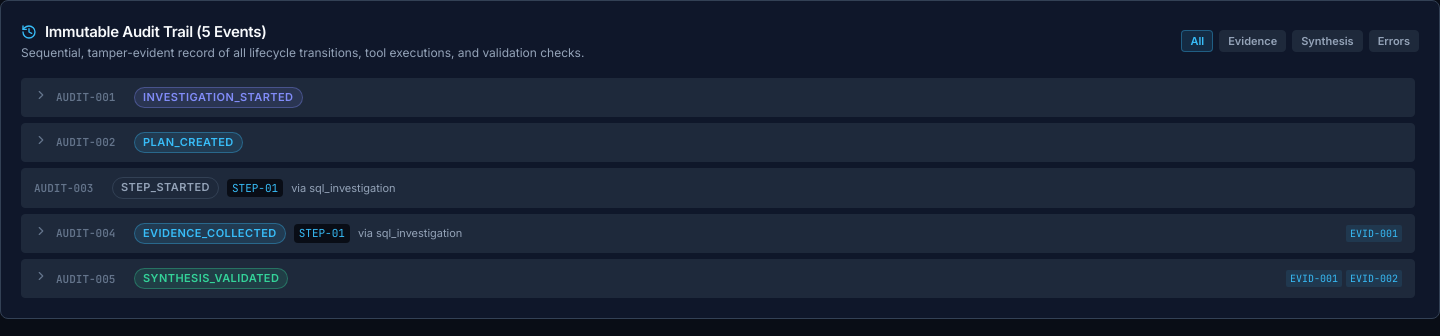
Scenario: AuditTrailStream component › filters events when filter pills are clicked
The image size is (1440, 336).
Click the button "evidence". click: (1253, 41)
box: [1219,30,1286,52]
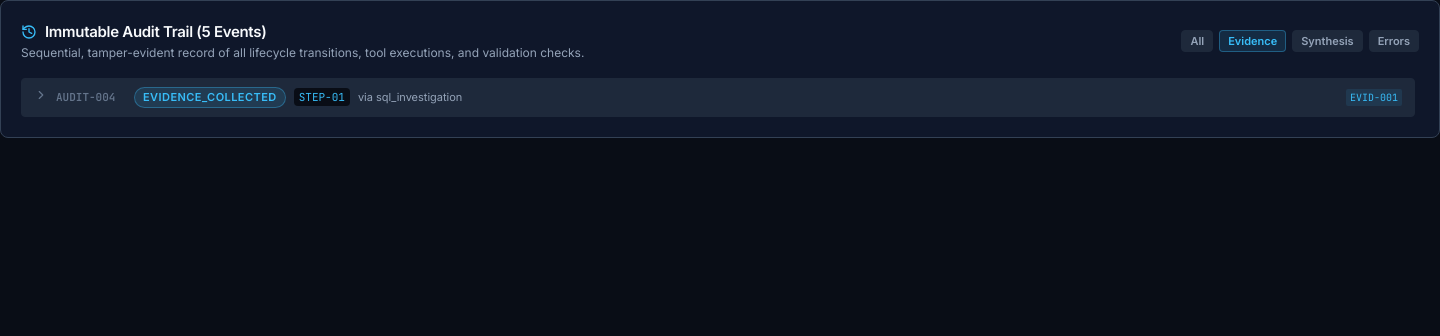
Expected: the text "evidence_collected" is shown, [134,86,286,108]
Result: the text "plan_created" is gone
